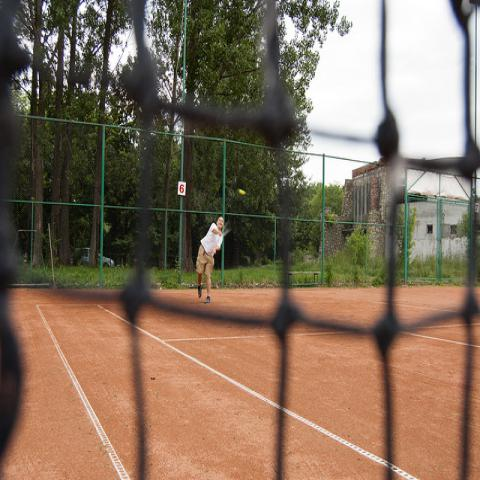car: (82, 247, 115, 268)
